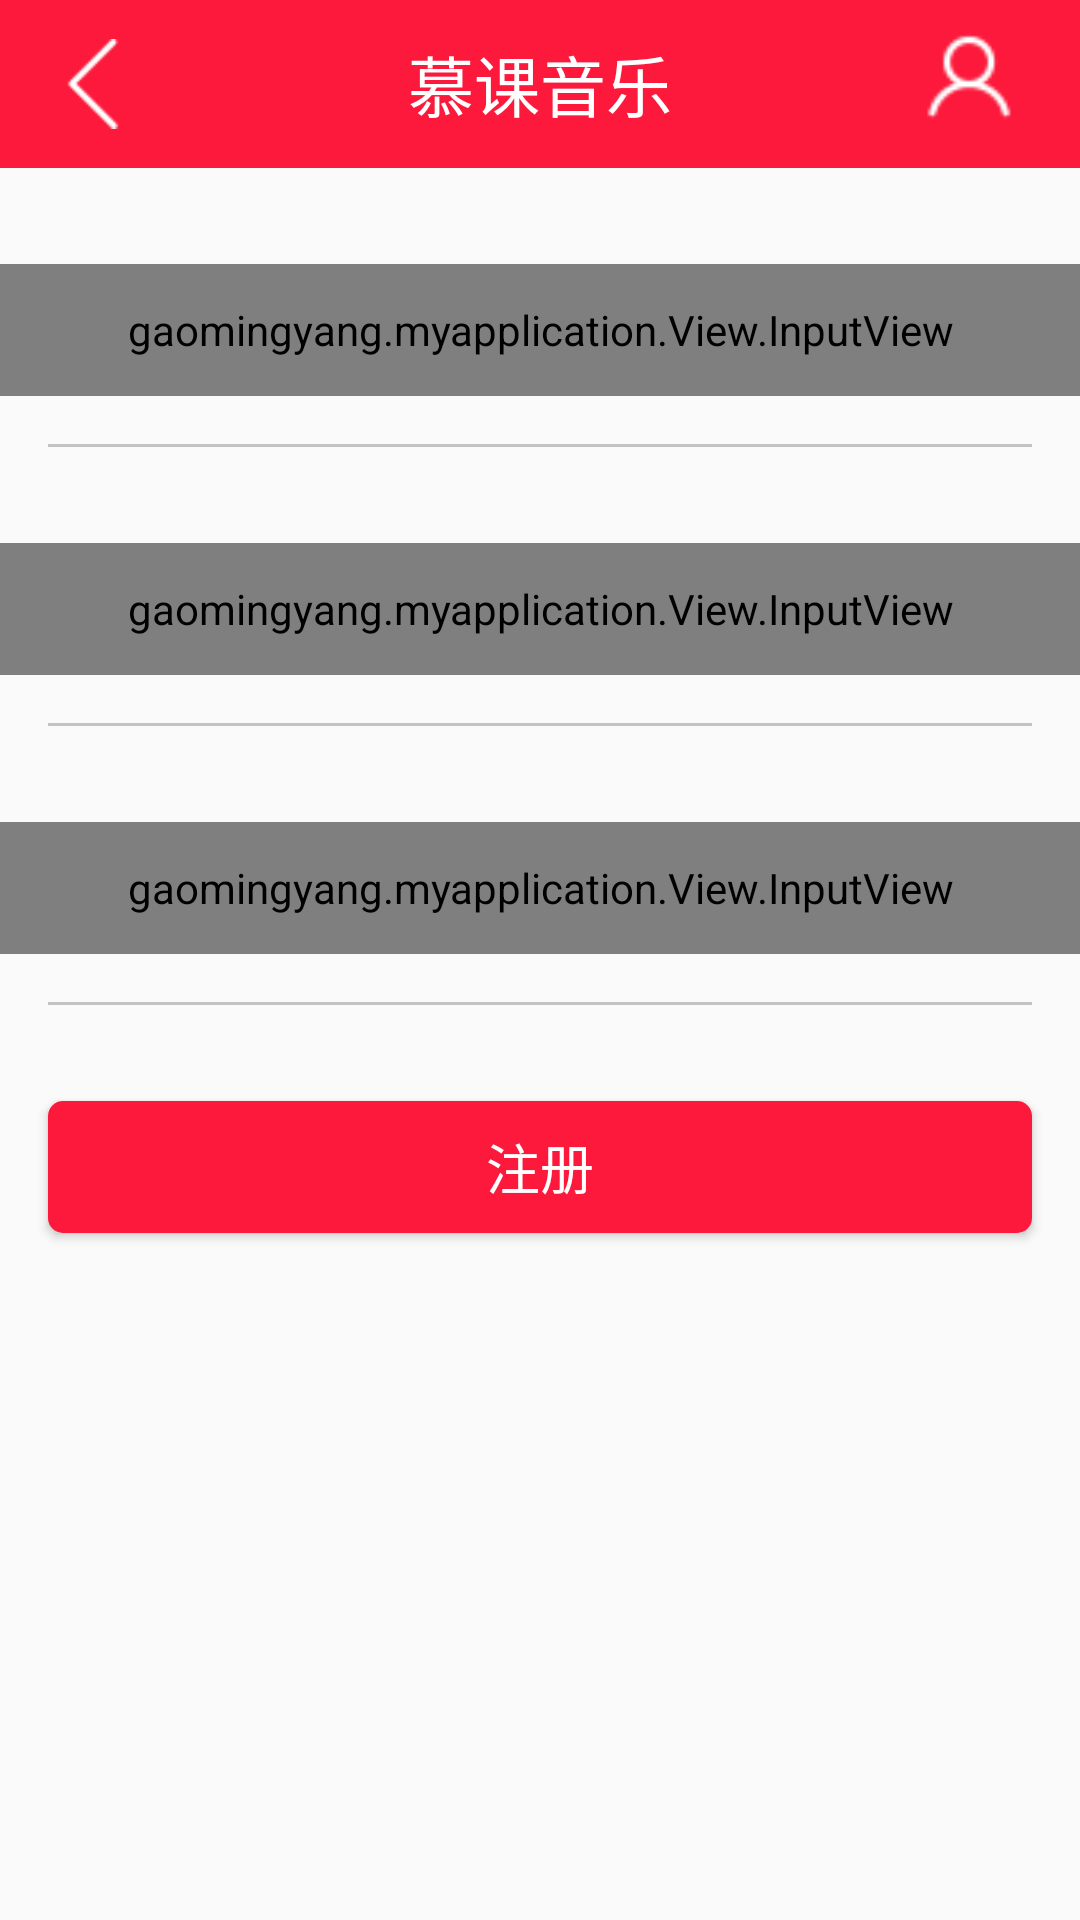

Named icons in this screenshot (1080 × 1920) and their bounding boxes, bbox=[x1, y1, x2, y2]:
back: bbox=[68, 39, 119, 129]
